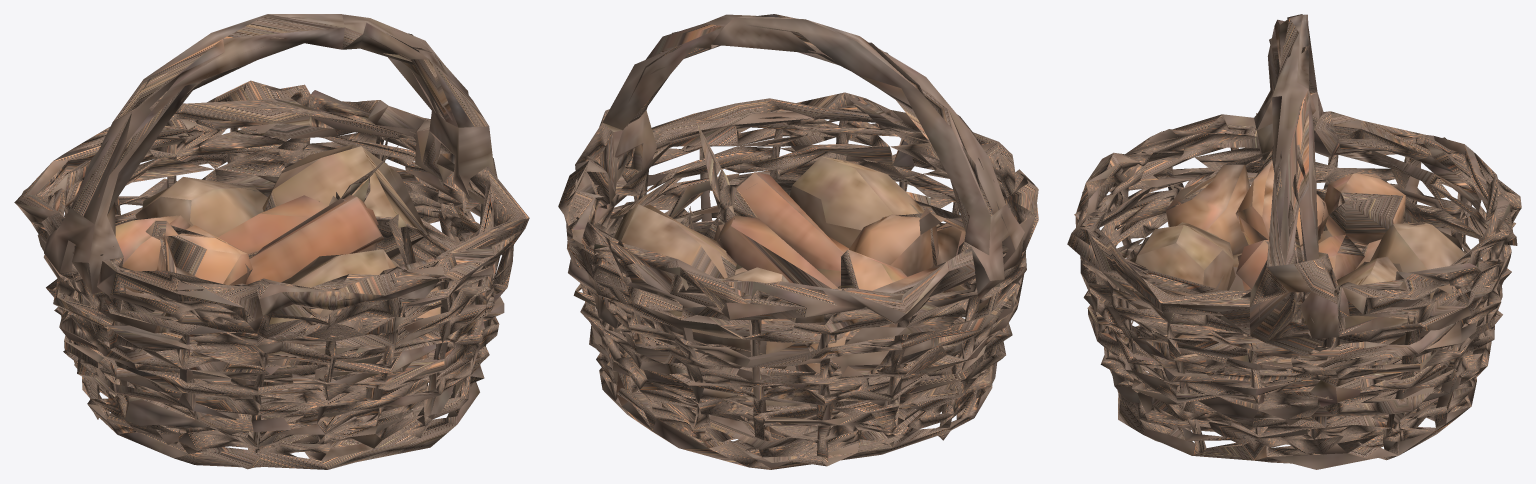
The picture shows the model from 3 angles, left to right: view 1: azimuth 30°, elevation 25°; view 2: azimuth 150°, elevation 25°; view 3: azimuth 270°, elevation 25°; orthographic projection. The views are drawn at different scales.
Parts seen in each view (by area): view 1: geometry_0; view 2: geometry_0; view 3: geometry_0.
Part boxes in pixels (x1,y1,x2,y2): geometry_0: (14,14,529,469); geometry_0: (558,14,1038,469); geometry_0: (1067,14,1521,469).
Size of the model in its own units: 0.348 by 0.3036 by 0.3473.
Materials: 1 (1 with a texture image).
